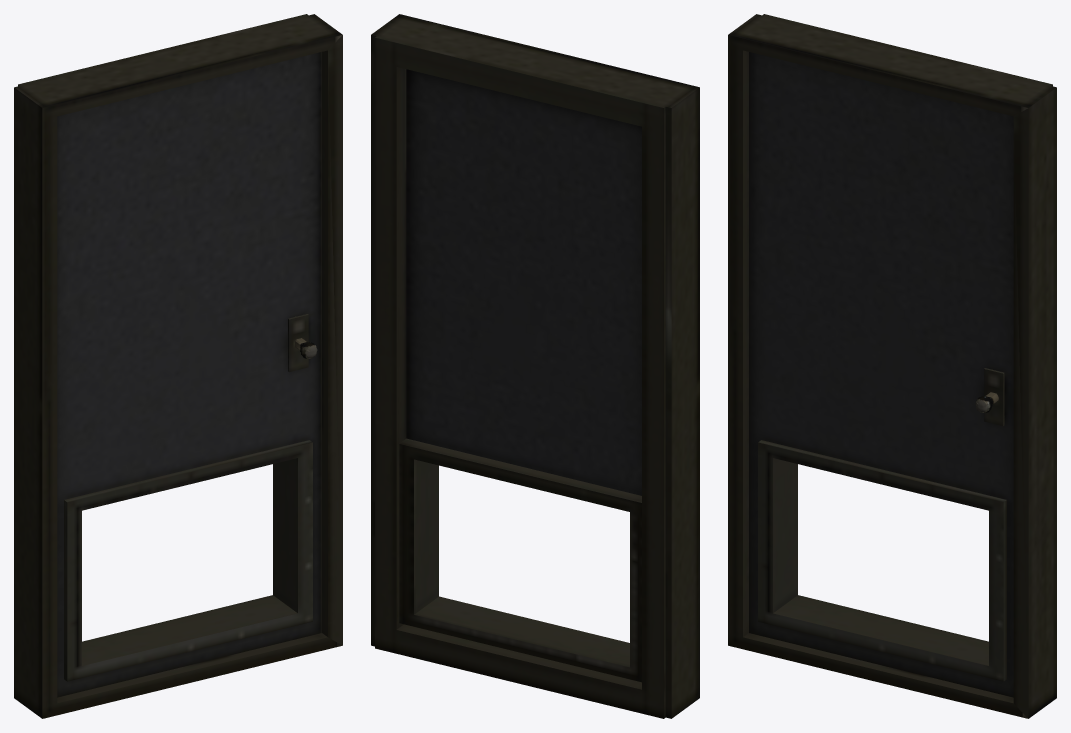
Rendered from E_Door_S.fbx.
3 views of the same model, side by side, from view 1: azimuth 30°, elevation 25°; view 2: azimuth 150°, elevation 25°; view 3: azimuth 330°, elevation 25° (orthographic).
Visible parts, largest first — view 1: E_Door_S; view 2: E_Door_S; view 3: E_Door_S.
Boxes of the visible parts, x1,y1,x2,y2 form: E_Door_S: (14,14,342,718); E_Door_S: (371,14,699,718); E_Door_S: (728,14,1056,718).
Bounding box in the file's own units: 117 × 227 × 26.27.
1 material, 1 textured.
